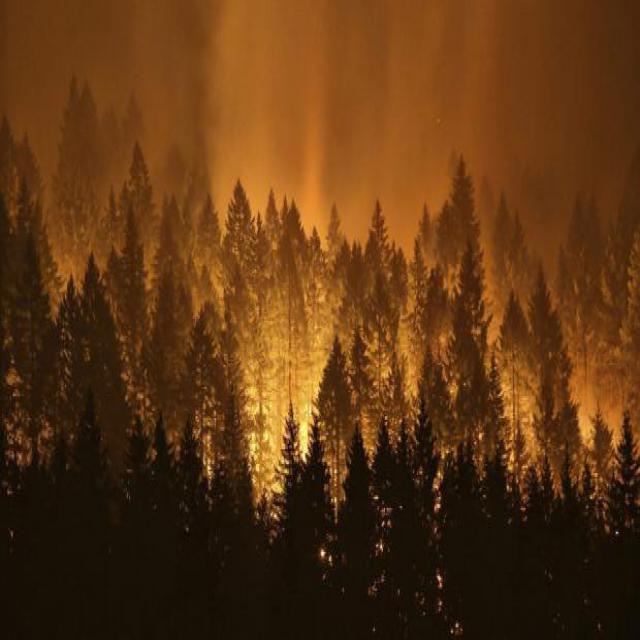Fire: (242, 312, 624, 484)
